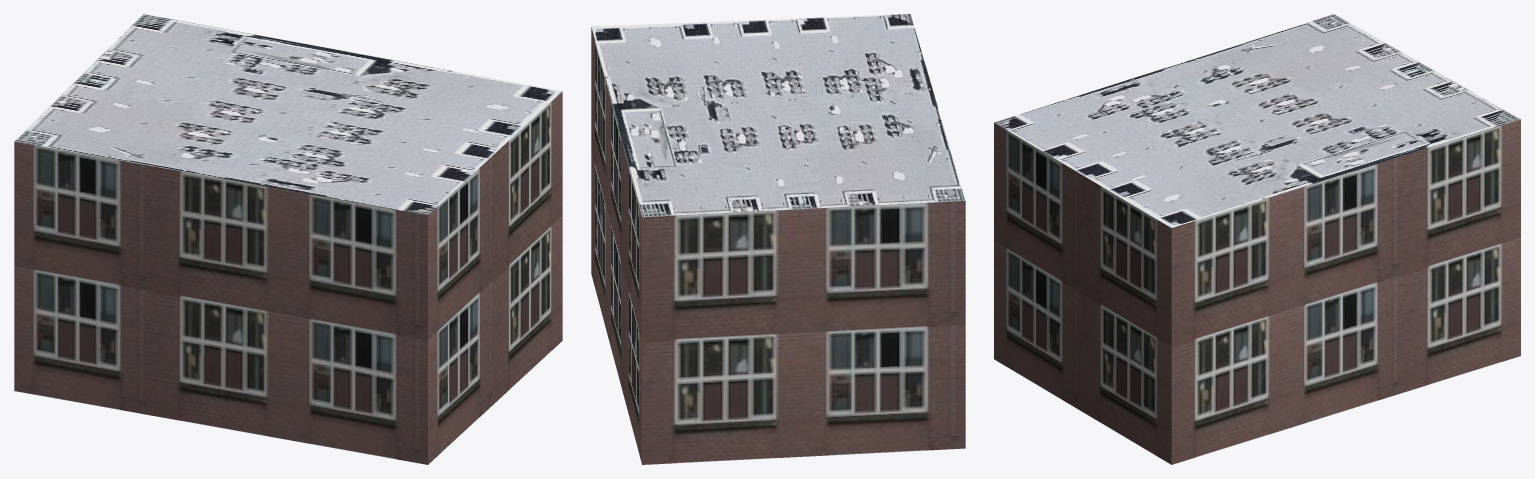
Rendered from ResTex__2369.fbx.
The picture shows the model from 3 angles, left to right: view 1: azimuth 30°, elevation 25°; view 2: azimuth 150°, elevation 25°; view 3: azimuth 270°, elevation 25°; orthographic projection. The views are drawn at different scales.
Parts seen in each view (by area): view 1: CityEngineMaterial_12_m, CityEngineMaterial_8_m; view 2: CityEngineMaterial_12_m, CityEngineMaterial_8_m; view 3: CityEngineMaterial_12_m, CityEngineMaterial_8_m.
Boxes of the visible parts, x1,y1,x2,y2 form: CityEngineMaterial_12_m: [14, 91, 562, 464]; CityEngineMaterial_8_m: [14, 14, 561, 215]; CityEngineMaterial_12_m: [591, 27, 965, 464]; CityEngineMaterial_8_m: [591, 14, 965, 217]; CityEngineMaterial_12_m: [994, 119, 1520, 464]; CityEngineMaterial_8_m: [994, 14, 1520, 227].
Bounding box in the file's own units: 11.64 × 6 × 12.1.
2 materials, 2 textured.
